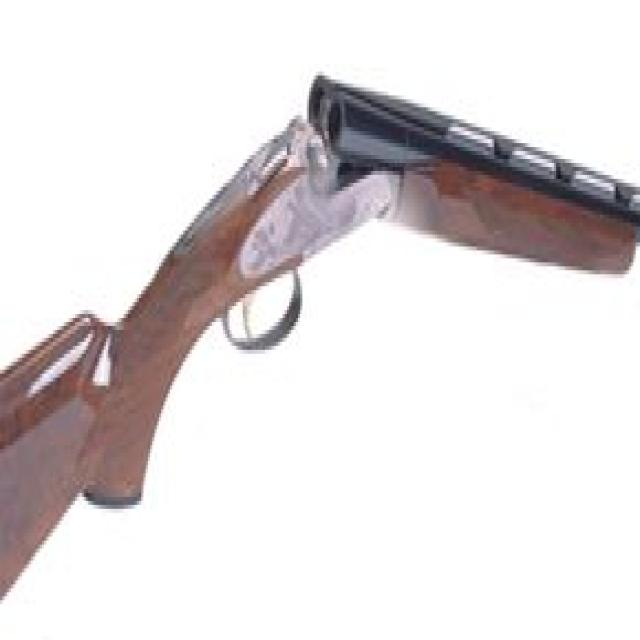ShotGun: (0, 76, 640, 604)
